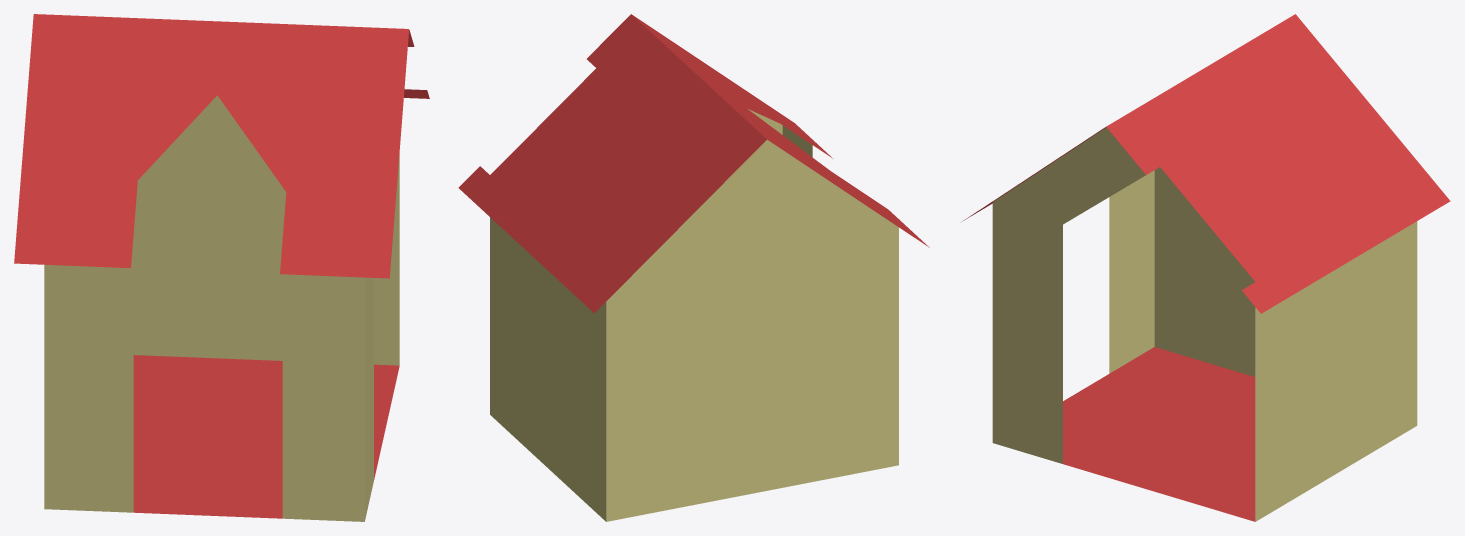
3 renders of one model, left to right at view 1: azimuth 30°, elevation 25°; view 2: azimuth 150°, elevation 25°; view 3: azimuth 270°, elevation 25°, orthographic. The views are drawn at different scales.
Bounding box in the file's own units: 20.06 × 20.48 × 16.69.
